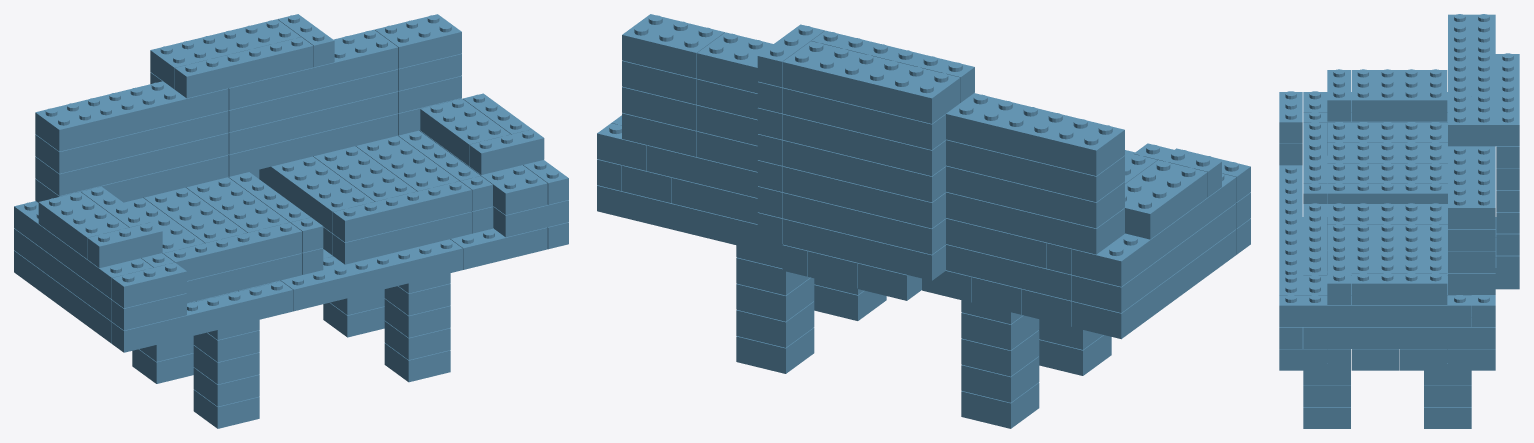
The model's file is collab_sofa-L2V1_raw.glb.
3 views of the same model, side by side, from view 1: azimuth 30°, elevation 25°; view 2: azimuth 150°, elevation 25°; view 3: azimuth 270°, elevation 25° (orthographic). The views are drawn at different scales.
Size of the model in its own units: 20.98 by 13.13 by 9.98.
